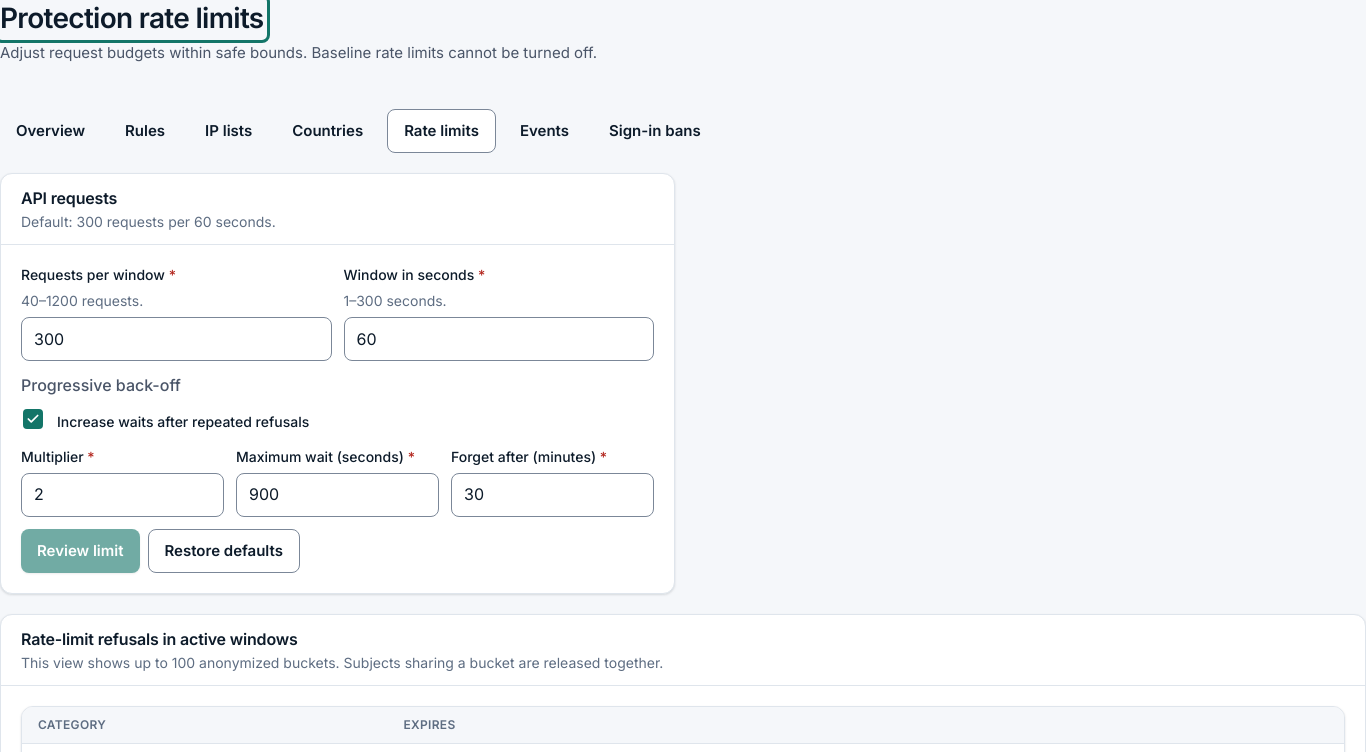
Test: stages rate back-off edits and asks for confirmation before saving
Check: the button "Review limit" is disabled, box [21, 528, 140, 572]
What coordinates should you click on to do the following:
click the checkbox named "Increase waits after repeated refusals"
I would click on:
 (33, 419)
Its box is [23, 409, 43, 429].
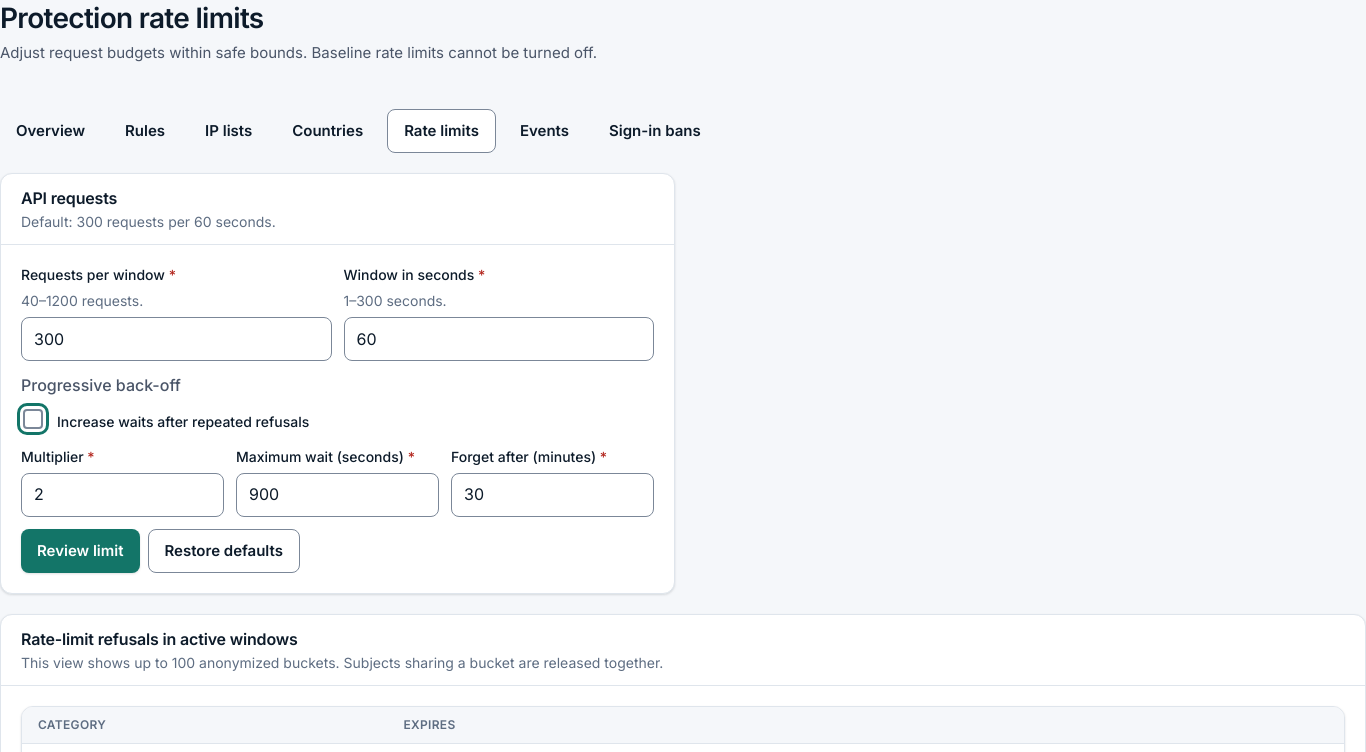
Check: the checkbox named "Increase waits after repeated refusals" is not checked, box [23, 409, 43, 429]
What coordinates should you click on to do the following:
click the button "Review limit"
I would click on:
 (80, 550)
Its box is [21, 528, 140, 572].
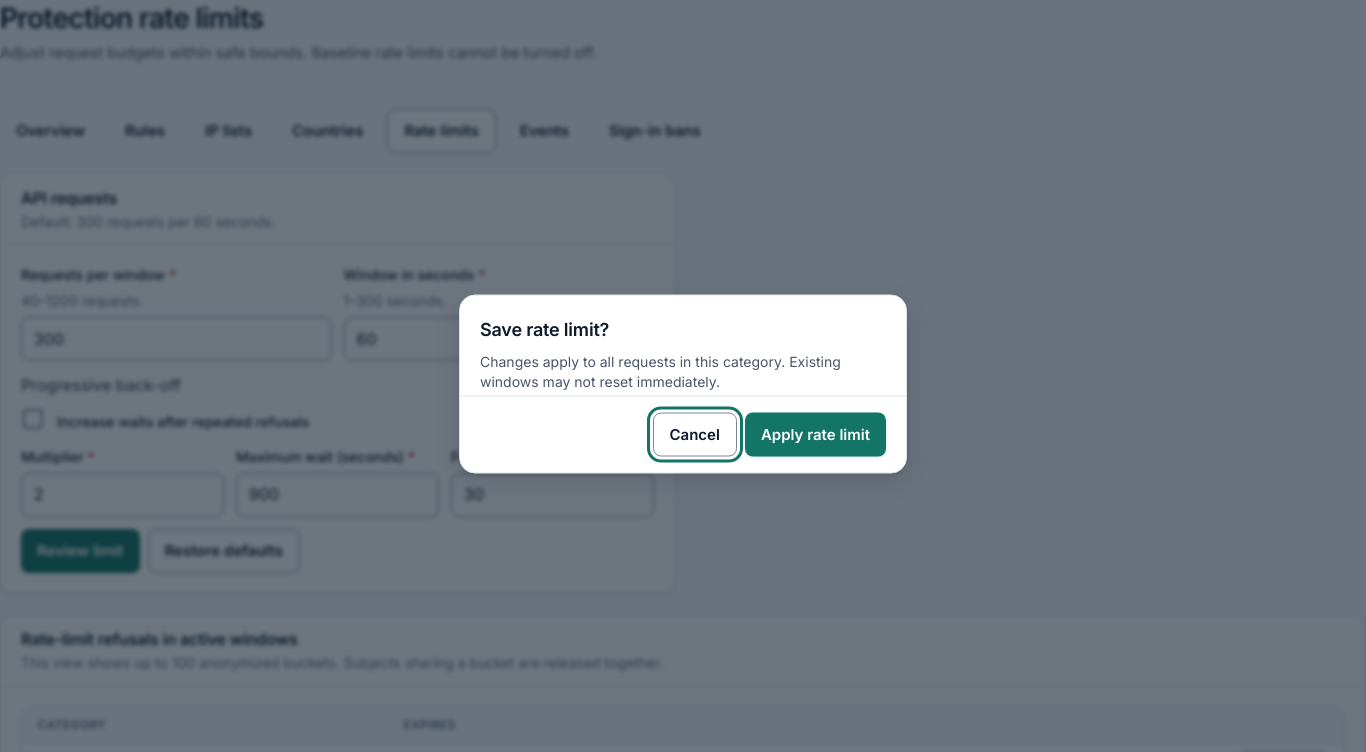
Check: the dialog "Save rate limit?" is shown, box [459, 294, 907, 474]
